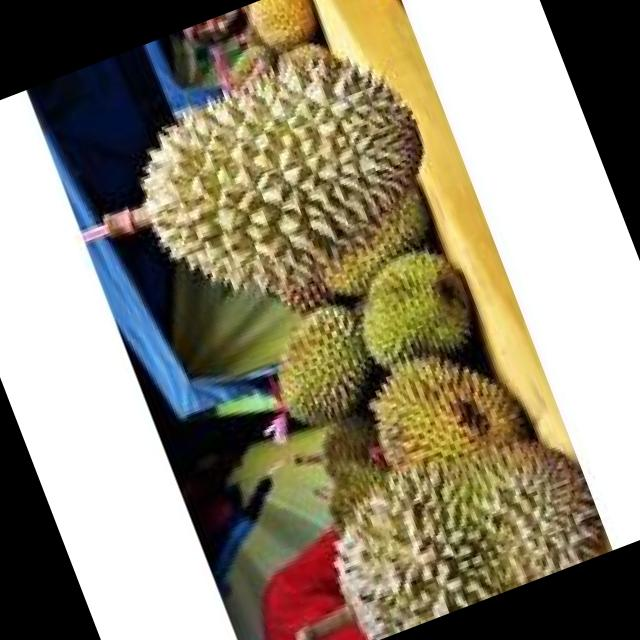fruit: (65, 0, 496, 399), (202, 290, 617, 640), (223, 264, 422, 462), (312, 216, 504, 408)
